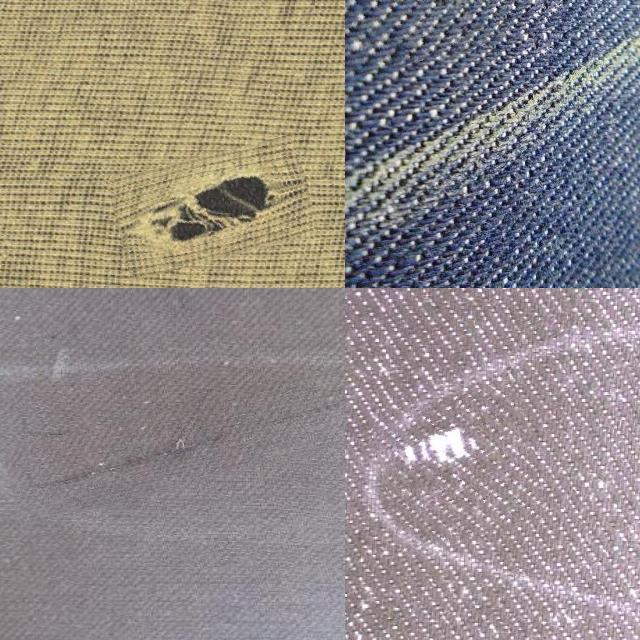Thread_other: (2, 361, 345, 498), (374, 387, 540, 547), (345, 0, 589, 93)
seam: (109, 144, 313, 270)
